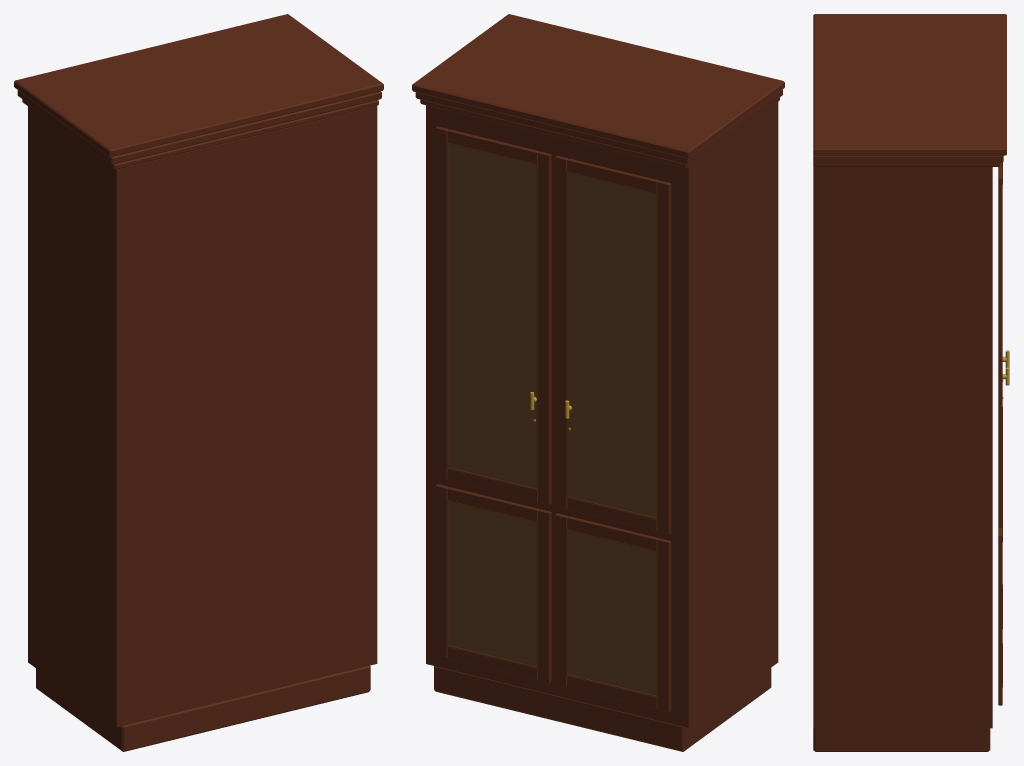
Rendered from parametric-wardrobe-1st.glb.
3 views of the same model, side by side, from view 1: azimuth 30°, elevation 25°; view 2: azimuth 150°, elevation 25°; view 3: azimuth 270°, elevation 25° (orthographic).
Visible parts, largest first — view 1: parametric-wardrobe-1st; view 2: parametric-wardrobe-1st; view 3: parametric-wardrobe-1st.
Boxes of the visible parts, x1,y1,x2,y2 form: parametric-wardrobe-1st: [14, 14, 383, 751]; parametric-wardrobe-1st: [412, 14, 784, 751]; parametric-wardrobe-1st: [813, 14, 1009, 751].
Bounding box in the file's own units: 0.95 × 2 × 0.5827.
